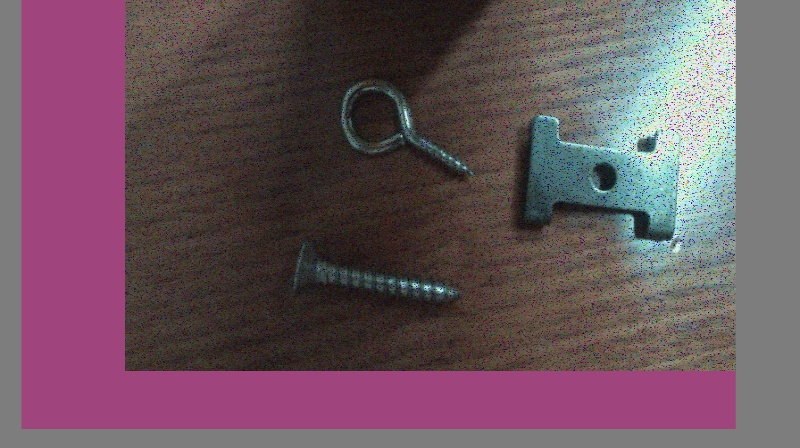O001: (335, 76, 474, 181)
O002: (519, 111, 680, 241)
S001: (286, 235, 465, 306)
